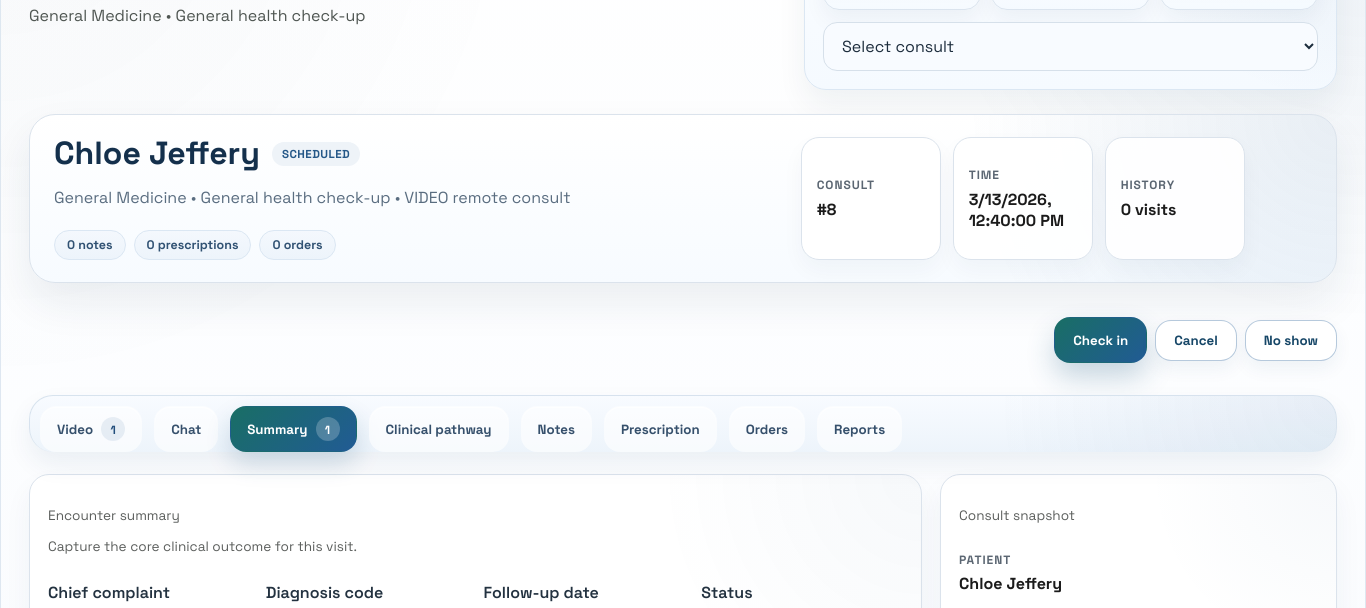
Scenario: DoctorConsoleWorkspace › locks video room actions until doctor consent is accepted
Click the button "Video 1". click: (91, 430)
box: [40,406,142,452]
(page scrolled)
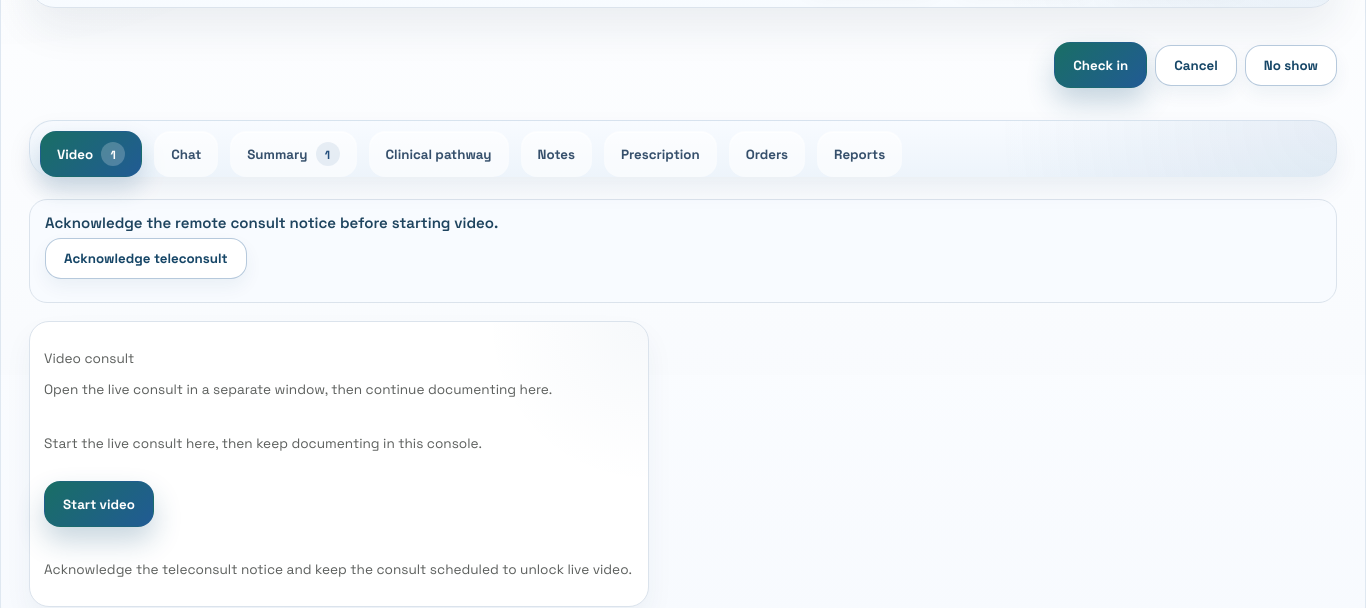
Check: the button "Start video" is disabled, box [44,481,154,527]
Check: the text "Acknowledge the teleconsult notice and keep the consult scheduled to unlock live video." is shown, box [44,561,632,578]
